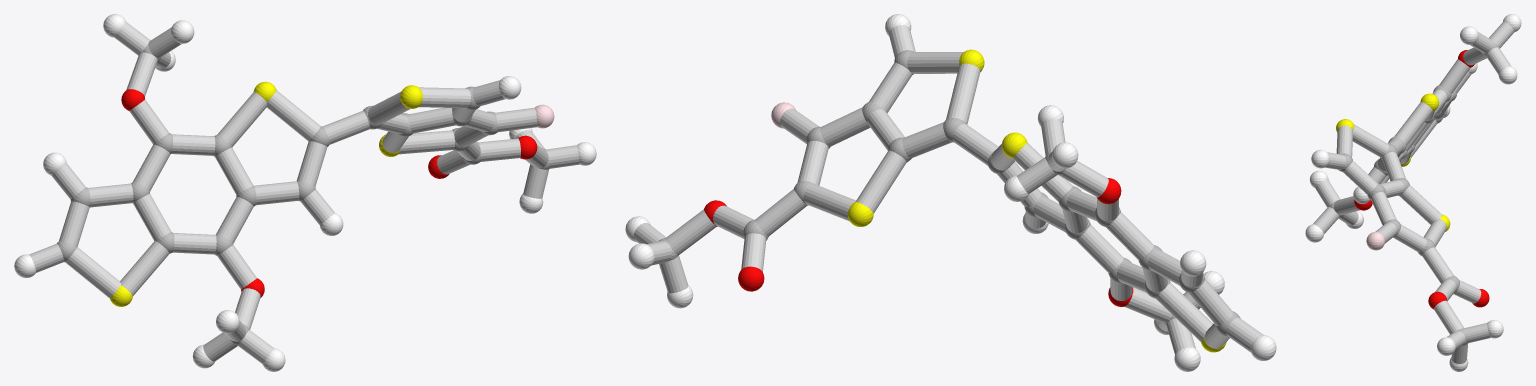
Rendered from Dimethoxy_Benzodithiophene_Phi_15_Theta_260_Methylcarbonyl_3_Fluoro_Thienothiophene.glb.
The picture shows the model from 3 angles, left to right: view 1: azimuth 30°, elevation 25°; view 2: azimuth 150°, elevation 25°; view 3: azimuth 270°, elevation 25°; orthographic projection. The views are drawn at different scales.
Visible parts, largest first — view 1: grp15205, grp8689, grp1, grp7241, grp13395; view 2: grp15205, grp8689, grp1, grp7241, grp13395; view 3: grp15205, grp8689, grp1, grp13395, grp7241, grp14843.
Part boxes in pixels (<box>): grp15205: <box>29,22,579,363</box>; grp8689: <box>14,14,596,371</box>; grp1: <box>57,44,549,345</box>; grp7241: <box>110,81,422,306</box>; grp13395: <box>121,89,537,297</box>; grp15205: <box>634,25,1263,354</box>; grp8689: <box>625,14,1276,371</box>; grp1: <box>658,50,1240,336</box>; grp7241: <box>847,49,1226,352</box>; grp13395: <box>704,178,1133,306</box>; grp15205: <box>1313,21,1514,363</box>; grp8689: <box>1305,14,1521,371</box>; grp1: <box>1328,41,1498,345</box>; grp13395: <box>1354,50,1489,309</box>; grp7241: <box>1336,93,1450,231</box>; grp14843: <box>1366,232,1385,250</box>.
Size of the model in its own units: 16.92 by 7.78 by 6.9.
